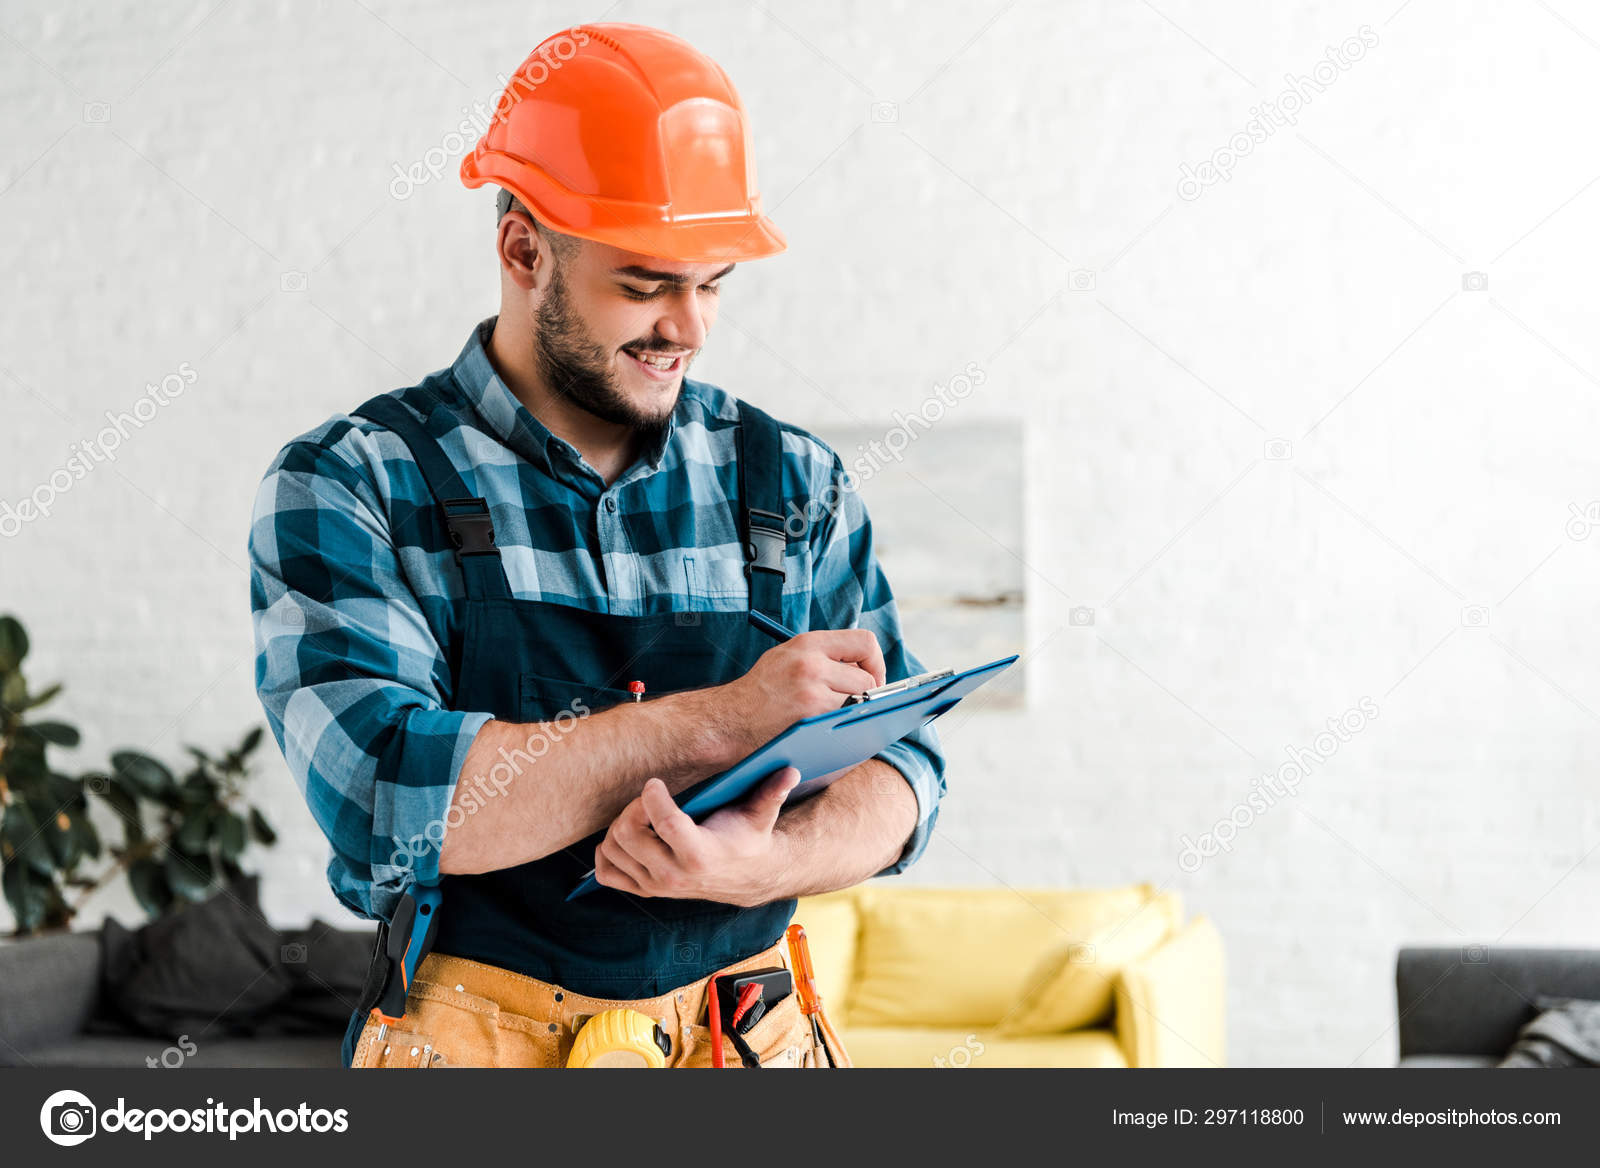casco: (455, 19, 789, 270)
